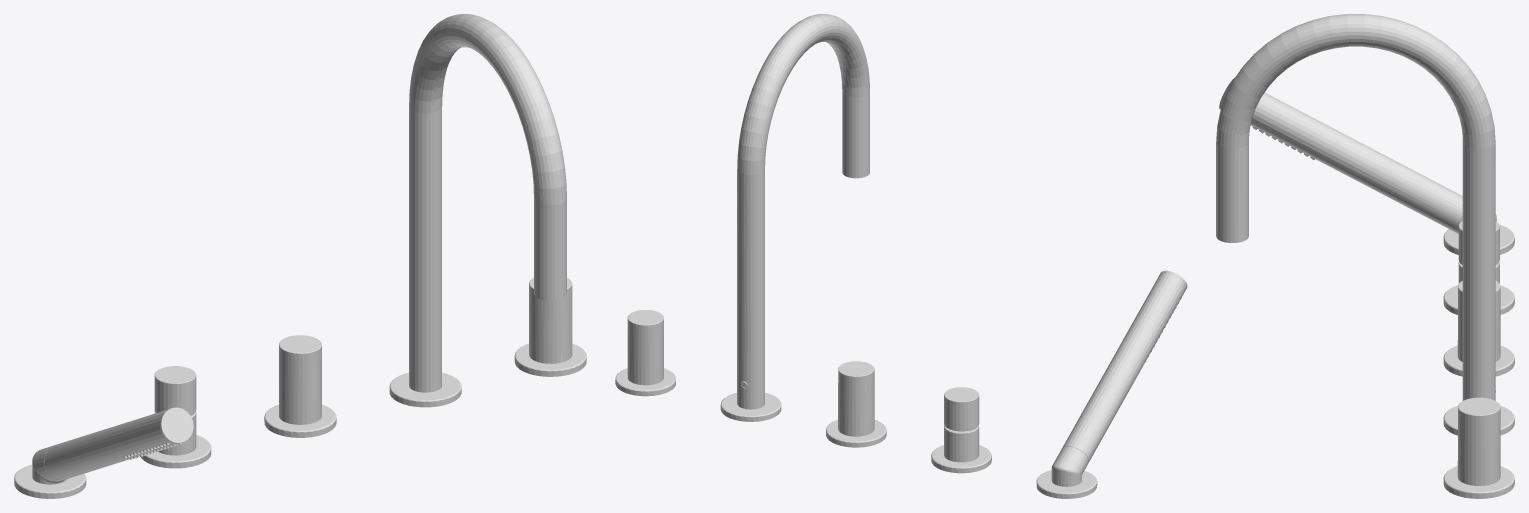
File: AEC_47523.glb
3 views of the same model, side by side, from view 1: azimuth 30°, elevation 25°; view 2: azimuth 150°, elevation 25°; view 3: azimuth 270°, elevation 25° (orthographic). The views are drawn at different scales.
Parts seen in each view (by area): view 1: 0; view 2: 0; view 3: 0.
Boxes of the visible parts, x1,y1,x2,y2 form: 0: (14,14,586,498); 0: (615,14,1187,498); 0: (1216,14,1514,498).
Bounding box in the file's own units: 0.45 × 0.3158 × 0.2095.
Materials: 1 (1 with a texture image).
